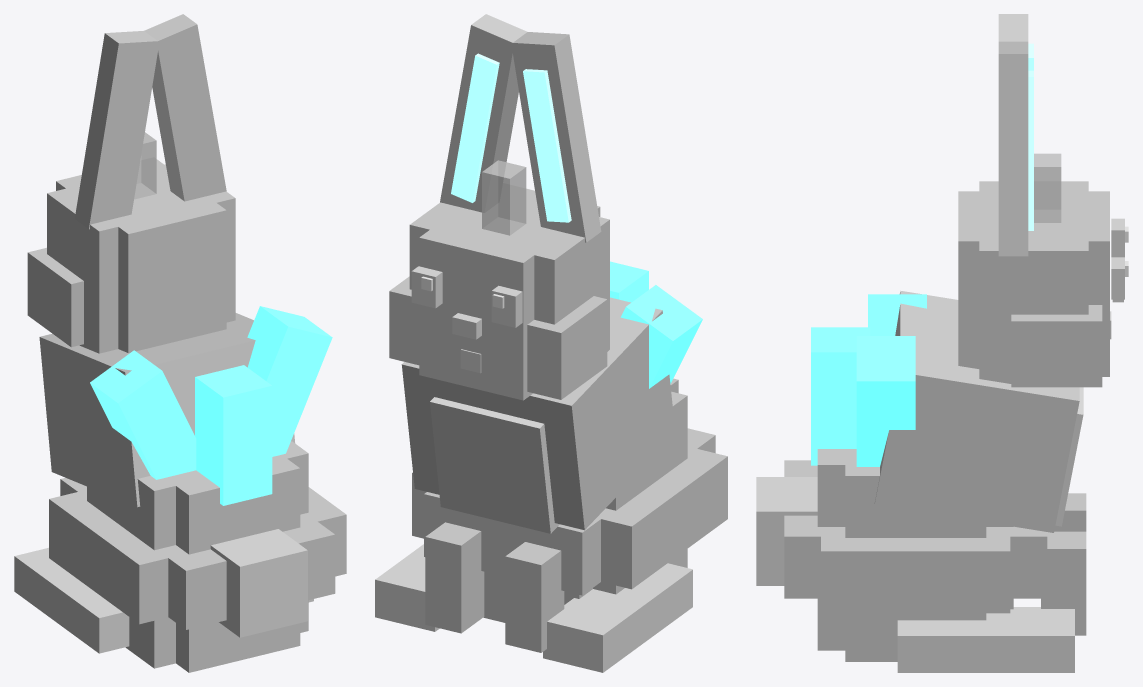
File: CrystalBunny.fbx
3 renders of one model, left to right at view 1: azimuth 30°, elevation 25°; view 2: azimuth 150°, elevation 25°; view 3: azimuth 270°, elevation 25°, orthographic. The views are drawn at different scales.
Parts seen in each view (by area): view 1: Crystal Bunny_body_6, Crystal Bunny_body_2, Crystal Bunny_earL_24, Crystal Bunny_head_15, Crystal Bunny_earR_23, Crystal Bunny_body_30, Crystal Bunny_tail_27, Crystal Bunny_body_29, Crystal Bunny_head_14, Crystal Bunny_body_5, Crystal Bunny_body_28, Crystal Bunny_body_3 (+8 smaller); view 2: Crystal Bunny_body_6, Crystal Bunny_body_7, Crystal Bunny_body_2, Crystal Bunny_head_14, Crystal Bunny_legBL_9, Crystal Bunny_head_16, Crystal Bunny_earL_24, Crystal Bunny_head_15, Crystal Bunny_earR_23, Crystal Bunny_body_3, Crystal Bunny_head_13, Crystal Bunny_legFR_10 (+12 smaller); view 3: Crystal Bunny_body_6, Crystal Bunny_body_2, Crystal Bunny_head_14, Crystal Bunny_legBR_8, Crystal Bunny_head_16, Crystal Bunny_body_3, Crystal Bunny_body_28, Crystal Bunny_earR_23, Crystal Bunny_head_15, Crystal Bunny_body_30, Crystal Bunny_body_4, Crystal Bunny_tail_27 (+14 smaller).
Part boxes in pixels (x1=…): Crystal Bunny_body_6: x1=39, y1=313, x2=295, y2=507; Crystal Bunny_body_2: x1=49, y1=487, x2=346, y2=624; Crystal Bunny_earL_24: x1=74, y1=31, x2=159, y2=229; Crystal Bunny_head_15: x1=56, y1=158, x2=226, y2=298; Crystal Bunny_earR_23: x1=144, y1=14, x2=226, y2=201; Crystal Bunny_body_30: x1=195, y1=365, x2=272, y2=505; Crystal Bunny_tail_27: x1=210, y1=529, x2=307, y2=637; Crystal Bunny_body_29: x1=90, y1=350, x2=196, y2=479; Crystal Bunny_head_14: x1=47, y1=164, x2=235, y2=295; Crystal Bunny_body_5: x1=176, y1=455, x2=300, y2=554; Crystal Bunny_body_28: x1=247, y1=306, x2=332, y2=456; Crystal Bunny_body_3: x1=60, y1=477, x2=335, y2=629; Crystal Bunny_body_6: x1=401, y1=297, x2=675, y2=530; Crystal Bunny_body_7: x1=430, y1=397, x2=559, y2=533; Crystal Bunny_body_2: x1=412, y1=446, x2=727, y2=589; Crystal Bunny_head_14: x1=409, y1=194, x2=609, y2=324; Crystal Bunny_legBL_9: x1=543, y1=563, x2=692, y2=672; Crystal Bunny_head_16: x1=389, y1=276, x2=607, y2=399; Crystal Bunny_earL_24: x1=511, y1=32, x2=601, y2=242; Crystal Bunny_head_15: x1=419, y1=183, x2=600, y2=331; Crystal Bunny_earR_23: x1=440, y1=14, x2=527, y2=212; Crystal Bunny_body_3: x1=424, y1=428, x2=715, y2=595; Crystal Bunny_head_13: x1=419, y1=306, x2=532, y2=400; Crystal Bunny_legFR_10: x1=425, y1=522, x2=484, y2=633; Crystal Bunny_body_6: x1=874, y1=290, x2=1079, y2=532; Crystal Bunny_body_2: x1=821, y1=527, x2=1010, y2=613; Crystal Bunny_head_14: x1=979, y1=181, x2=1088, y2=318; Crystal Bunny_legBR_8: x1=897, y1=607, x2=1074, y2=672; Crystal Bunny_head_16: x1=1011, y1=305, x2=1102, y2=387; Crystal Bunny_body_3: x1=784, y1=460, x2=1047, y2=598; Crystal Bunny_body_28: x1=856, y1=336, x2=915, y2=466; Crystal Bunny_earR_23: x1=998, y1=41, x2=1028, y2=256; Crystal Bunny_head_15: x1=958, y1=191, x2=1109, y2=308; Crystal Bunny_body_30: x1=811, y1=327, x2=870, y2=465; Crystal Bunny_body_4: x1=845, y1=449, x2=986, y2=537; Crystal Bunny_tail_27: x1=756, y1=477, x2=817, y2=585.
Size of the model in its own units: 114 by 285 by 164.
